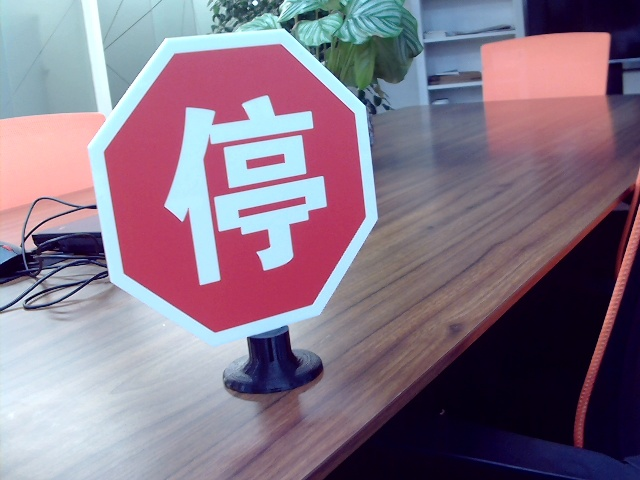stop: (169, 102, 326, 271)
